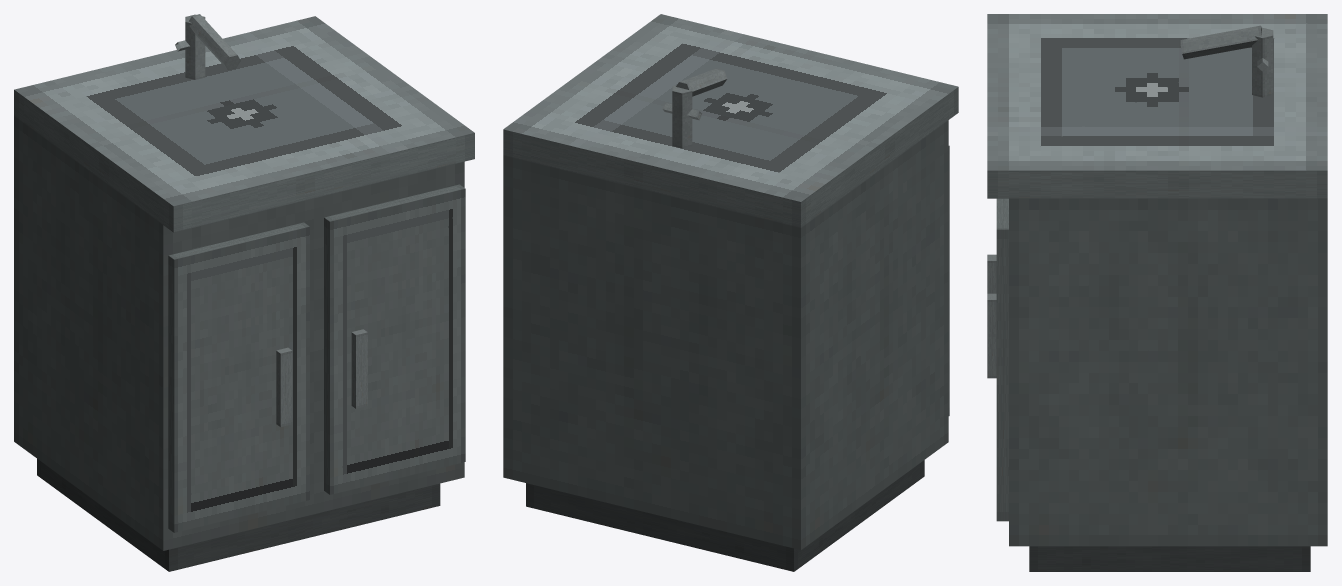
The model's file is sink.glb.
3 renders of one model, left to right at view 1: azimuth 30°, elevation 25°; view 2: azimuth 150°, elevation 25°; view 3: azimuth 270°, elevation 25°, orthographic. The views are drawn at different scales.
Visible parts, largest first — view 1: core_sink; view 2: core_sink; view 3: core_sink.
Part boxes in pixels (box(x1,y1,x2,y2)): core_sink: box(14, 14, 474, 571); core_sink: box(503, 14, 958, 571); core_sink: box(987, 14, 1327, 571).
Size of the model in its own units: 0.6 by 0.8456 by 0.55.
1 material, 1 textured.
